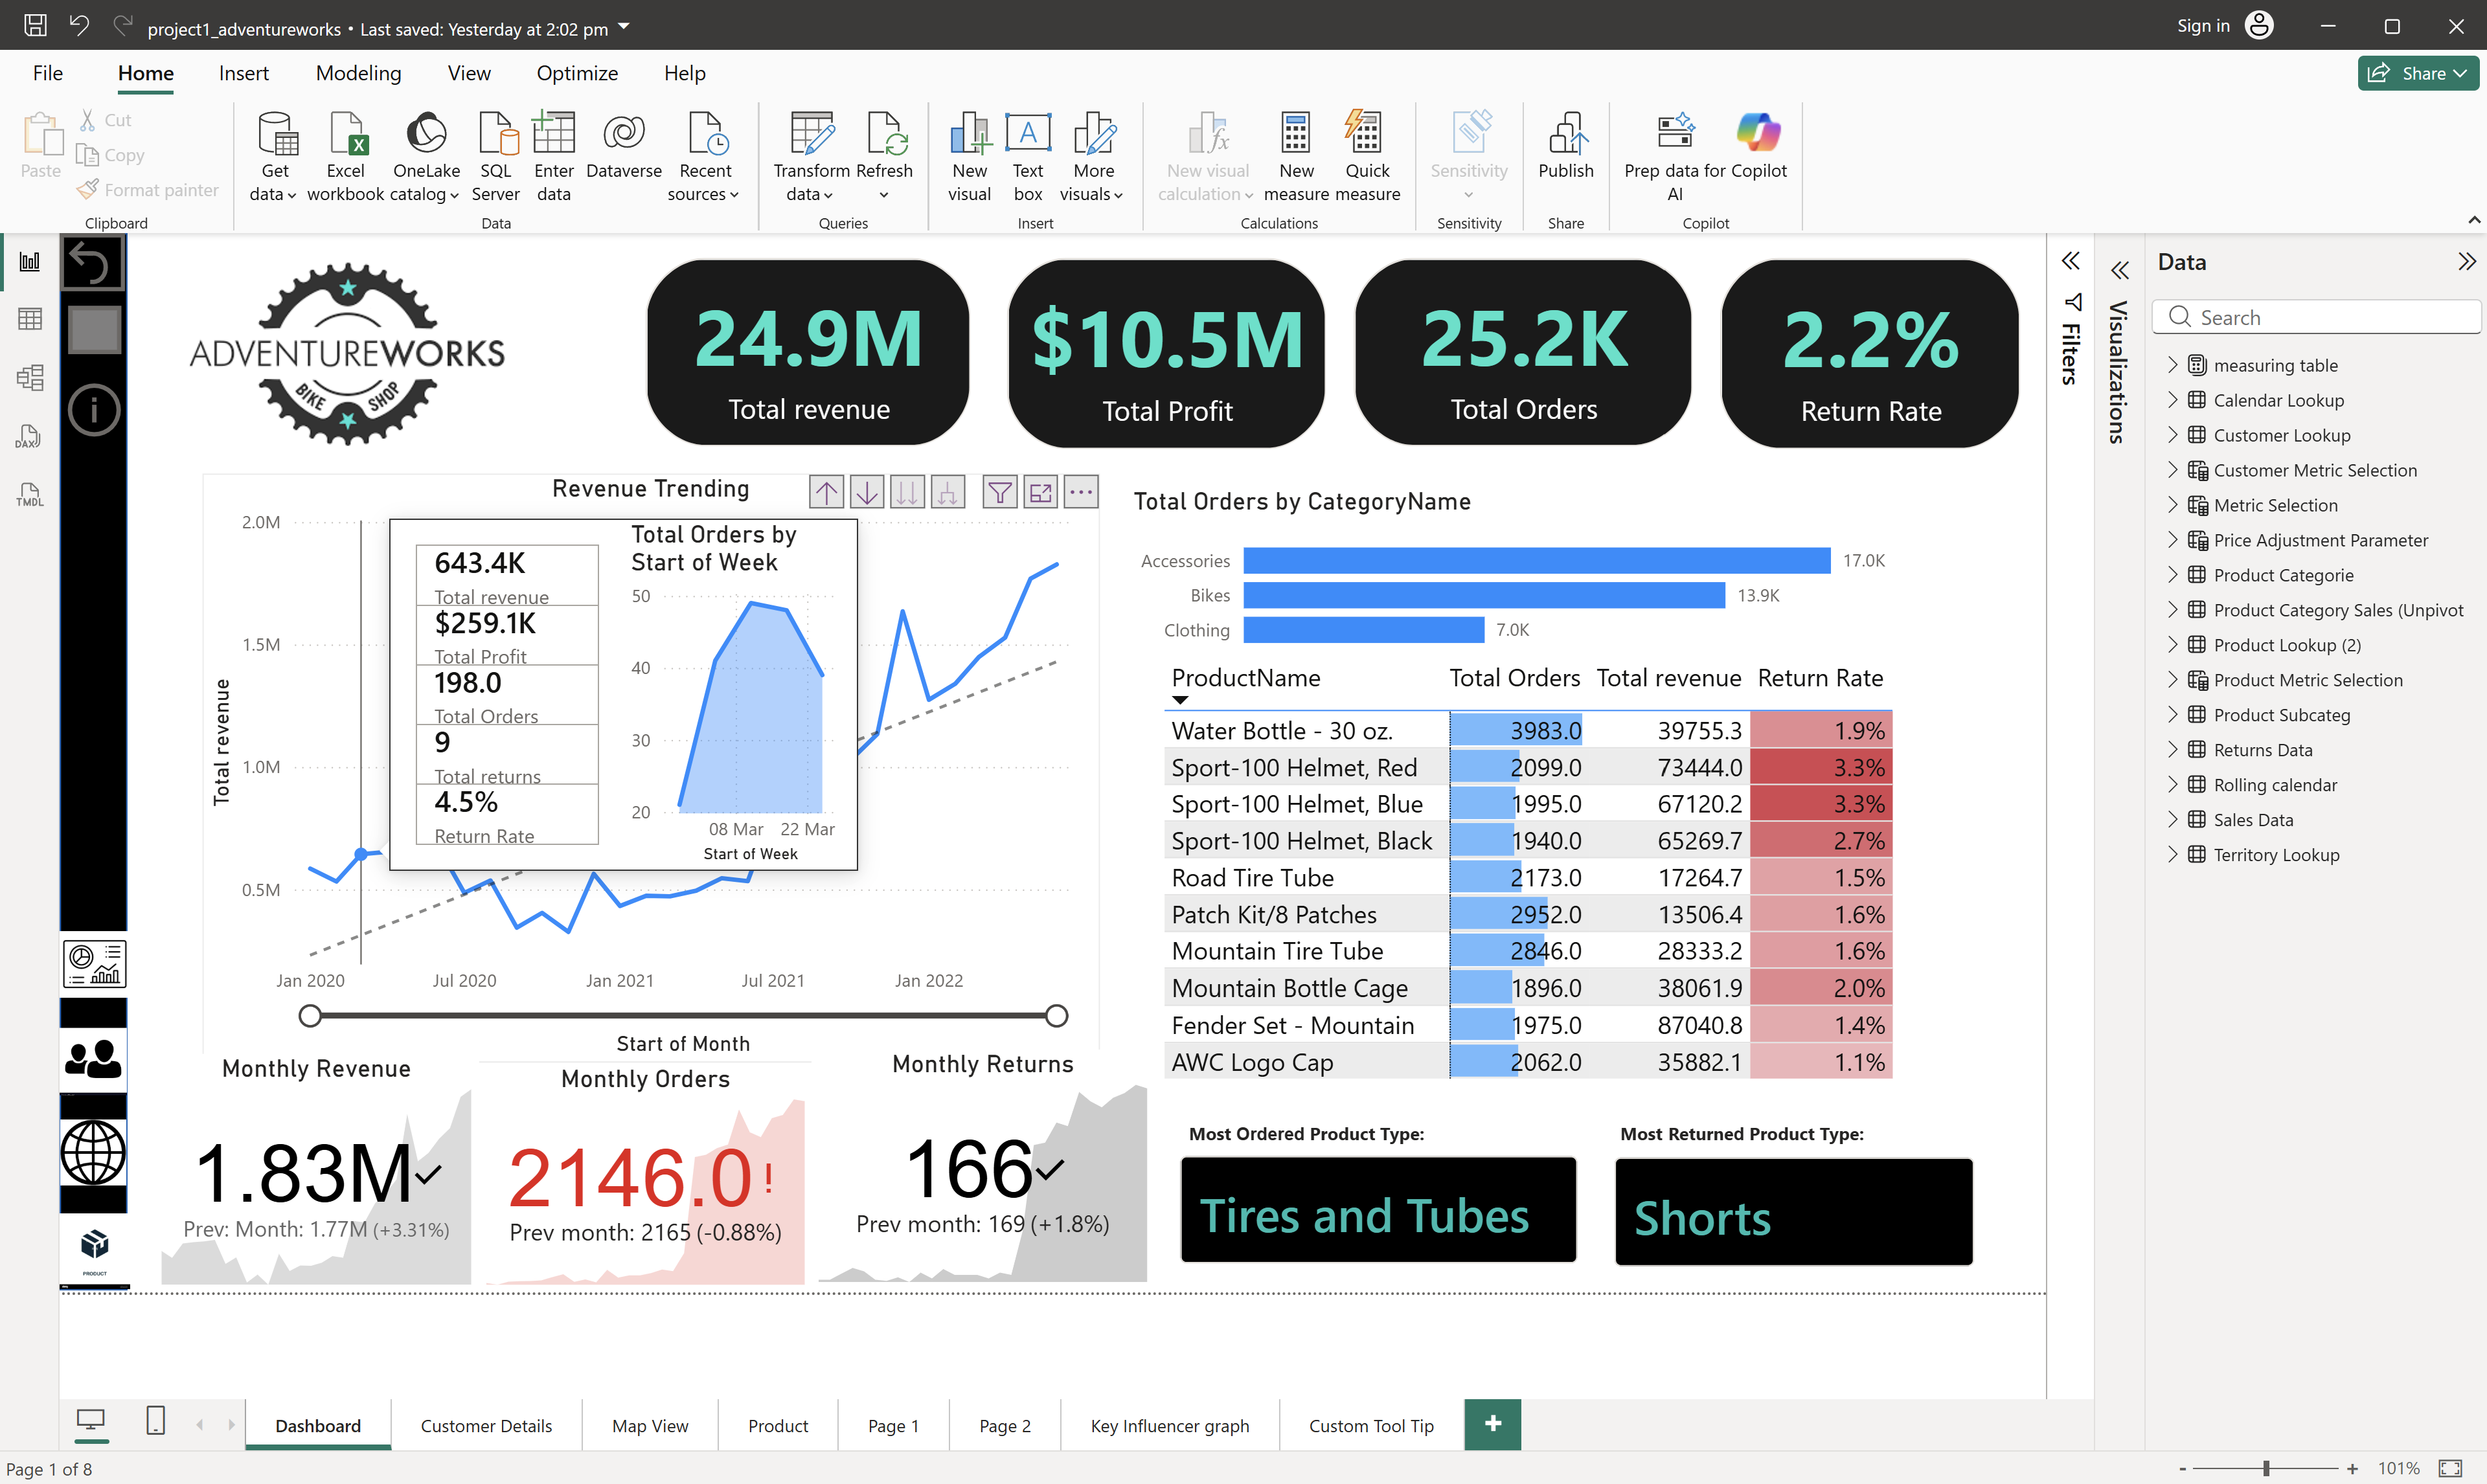

Layout of this report page (visuals, bound fields, positions):
{"tool":"powerbi","page":{"name":"Dashboard","canvas":[1350,720],"ordinal":0},"visuals":[{"type":"cardVisual","fields":{"Data":["measuring table.Total revenue"]},"box":[381.6,0,255.9,162.9],"z":0},{"type":"group","id":"g1","title":"Group 1","box":[744.8,598,304.1,121.1],"z":0,"group":"g3"},{"type":"image","box":[0,602.7,45.8,44.7],"z":0,"group":"g4"},{"type":"cardVisual","fields":{"Data":["Min(Product Subcateg.SubcategoryName)"]},"box":[1040.4,611.2,278.1,108.6],"z":0,"group":"g2"},{"type":"cardVisual","fields":{"Data":["Min(Product Subcateg.SubcategoryName)"]},"box":[744.8,611.4,304.1,107.8],"z":0,"group":"g1"},{"type":"cardVisual","fields":{"Data":["measuring table.Total Profit"]},"box":[627.6,0,251.5,164],"z":1000},{"type":"image","box":[0,537.3,45.8,52.3],"z":1000,"group":"g4"},{"type":"group","id":"g2","title":"Group 1","box":[1040.4,597.7,277.8,121.8],"z":1000,"group":"g3"},{"type":"textbox","box":[1056.7,597.7,246.5,30],"z":1000,"group":"g2"},{"type":"textbox","box":[762.6,598,269.5,29.7],"z":1000,"group":"g1"},{"type":"cardVisual","fields":{"Data":["measuring table.Total Orders"]},"box":[862.7,0,264.6,162.9],"z":2000},{"type":"image","box":[0,665.9,48,52.3],"z":2000,"group":"g4"},{"type":"cardVisual","fields":{"Data":["Calendar Lookup.Return Rate"]},"box":[1112,0,238.4,164],"z":3000},{"type":"barChart","fields":{"Category":["Product Categori.CategoryName"],"Y":["measuring table.Total Orders"]},"box":[724.9,172.4,554.6,121.9],"z":4000},{"type":"tableEx","fields":{"Values":["Product Lookup (2).ProductName","measuring table.Total Orders","measuring table.Total revenue","measuring table.Return Rate"]},"box":[744.8,283.9,571.2,314.9],"z":5000},{"type":"lineChart","title":"Revenue Trending","fields":{"Y":["measuring table.Total revenue"],"Category":["Calendar Lookup.Date Hierarchy 2.Date","Calendar Lookup.Date Hierarchy 2.Year","Calendar Lookup.Date Hierarchy 2.Start of Month"]},"box":[97.5,163.8,610,400],"z":6000},{"type":"shape","box":[0,0,46.2,718.8],"z":7000},{"type":"kpi","title":"Monthly Revenue","fields":{"TrendLine":["Calendar Lookup.Date Hierarchy 2.Start of Month"],"Goal":["measuring table.previous month revenue"],"Indicator":["measuring table.Total revenue"]},"box":[64.4,557.4,220.7,162.1],"z":8000},{"type":"kpi","title":"Monthly Orders","fields":{"Indicator":["measuring table.Total Orders"],"TrendLine":["Calendar Lookup.Date Hierarchy 2.Start of Month"],"Goal":["measuring table.previous month orders"]},"box":[285,564.3,226.4,155.2],"z":9000},{"type":"kpi","title":"Monthly Returns","fields":{"TrendLine":["Calendar Lookup.Date Hierarchy 2.Start of Month"],"Goal":["measuring table.previous month return"],"Indicator":["measuring table.Total returns"]},"box":[511.5,555.2,233.3,163.2],"z":10000},{"type":"image","box":[59,16.4,273.4,131.2],"z":11000},{"type":"image","box":[0,471.9,48,51.2],"z":12000},{"type":"group","id":"g3","title":"Group 2","box":[744.8,597.7,573.5,121.8],"z":13000},{"type":"group","id":"g4","title":"Group 3","box":[0,537.3,48,180.9],"z":15000},{"type":"actionButton","box":[5.5,49.2,36.1,32.8],"z":16000},{"type":"actionButton","box":[0,0,44.6,39.7],"z":17000},{"type":"actionButton","box":[0,93.1,47.3,54.4],"z":18000}]}

Visuals, with their boxes on the page's 1350x720 design canvas (x1, y1, x2, y2). These are canvas units, not pixel positions in the 2487x1484 screenshot, which may show the page scaled, cropped or inside an application window:
cardVisual - measuring table.Total revenue: l=382, t=0, r=638, b=163
"Group 1" group: l=745, t=598, r=1049, b=719
image: l=0, t=603, r=46, b=647
cardVisual - Min(Product Subcateg.SubcategoryName): l=1040, t=611, r=1318, b=720
cardVisual - Min(Product Subcateg.SubcategoryName): l=745, t=611, r=1049, b=719
cardVisual - measuring table.Total Profit: l=628, t=0, r=879, b=164
image: l=0, t=537, r=46, b=590
"Group 1" group: l=1040, t=598, r=1318, b=720
textbox: l=1057, t=598, r=1303, b=628
textbox: l=763, t=598, r=1032, b=628
cardVisual - measuring table.Total Orders: l=863, t=0, r=1127, b=163
image: l=0, t=666, r=48, b=718
cardVisual - Calendar Lookup.Return Rate: l=1112, t=0, r=1350, b=164
barChart - Product Categori.CategoryName x measuring table.Total Orders: l=725, t=172, r=1280, b=294
tableEx - Product Lookup (2).ProductName x measuring table.Total Orders: l=745, t=284, r=1316, b=599
"Revenue Trending" lineChart: l=98, t=164, r=708, b=564
shape: l=0, t=0, r=46, b=719
"Monthly Revenue" kpi: l=64, t=557, r=285, b=720
"Monthly Orders" kpi: l=285, t=564, r=511, b=720
"Monthly Returns" kpi: l=512, t=555, r=745, b=718
image: l=59, t=16, r=332, b=148
image: l=0, t=472, r=48, b=523
"Group 2" group: l=745, t=598, r=1318, b=720
"Group 3" group: l=0, t=537, r=48, b=718
actionButton: l=6, t=49, r=42, b=82
actionButton: l=0, t=0, r=45, b=40
actionButton: l=0, t=93, r=47, b=148
